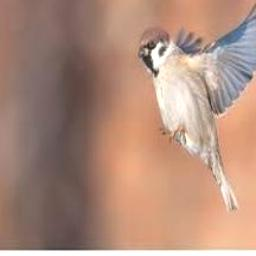Sparrow: (139, 0, 256, 209)
